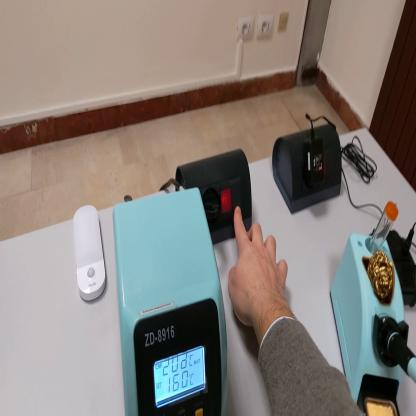electric screwdriver battery: (388, 232, 415, 309)
hand: (227, 205, 287, 327)
socket: (176, 151, 253, 248), (273, 123, 343, 213)
welder base: (330, 220, 409, 415)
welder probe tip: (378, 318, 415, 384)
welder station: (113, 188, 227, 415)
